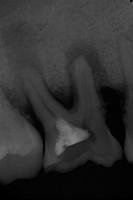Dental Caries: (49, 42, 112, 110), (0, 19, 47, 99)
